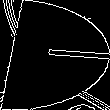L_W: (6, 37, 104, 73)
